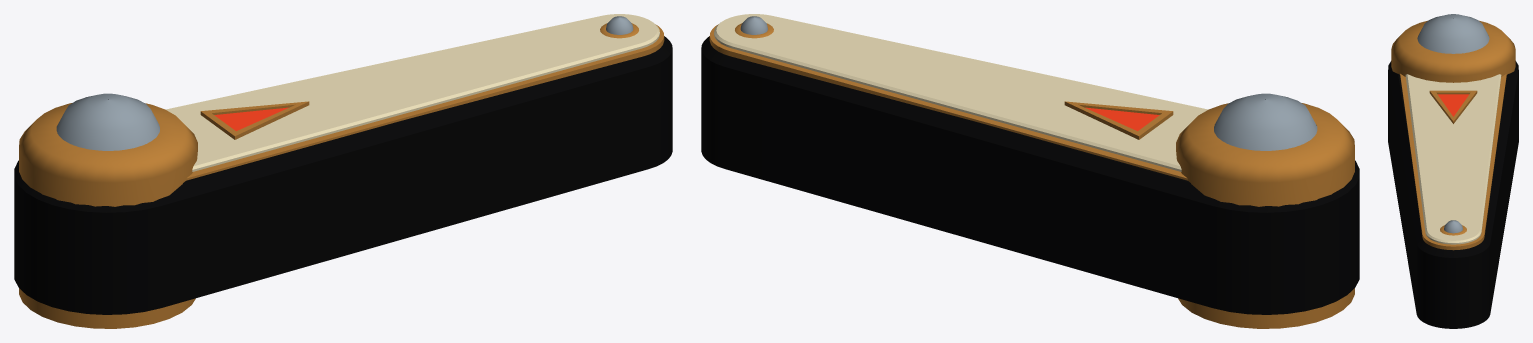
The model's file is common-flipper.dae.
3 views of the same model, side by side, from view 1: azimuth 30°, elevation 25°; view 2: azimuth 150°, elevation 25°; view 3: azimuth 270°, elevation 25° (orthographic). The views are drawn at different scales.
Visible parts, largest first — view 1: black_rubber, flipper_art, accent, metal, sling_lens; view 2: black_rubber, flipper_art, accent, metal, sling_lens; view 3: black_rubber, flipper_art, accent, metal, sling_lens.
Part boxes in pixels (box(x1,y1,x2,y2)): black_rubber: box(14, 36, 672, 314); flipper_art: box(165, 14, 659, 171); accent: box(19, 23, 664, 328); metal: box(56, 16, 633, 150); sling_lens: box(214, 107, 288, 131); black_rubber: box(701, 36, 1359, 314); flipper_art: box(714, 14, 1208, 171); accent: box(709, 23, 1354, 328); metal: box(740, 16, 1317, 150); sling_lens: box(1085, 107, 1159, 131); black_rubber: box(1388, 61, 1518, 328); flipper_art: box(1405, 74, 1501, 244); accent: box(1391, 20, 1515, 250); metal: box(1417, 14, 1489, 233); sling_lens: box(1438, 94, 1468, 116).
Bounding box in the file's own units: 1.25 × 0.358 × 0.3192.
